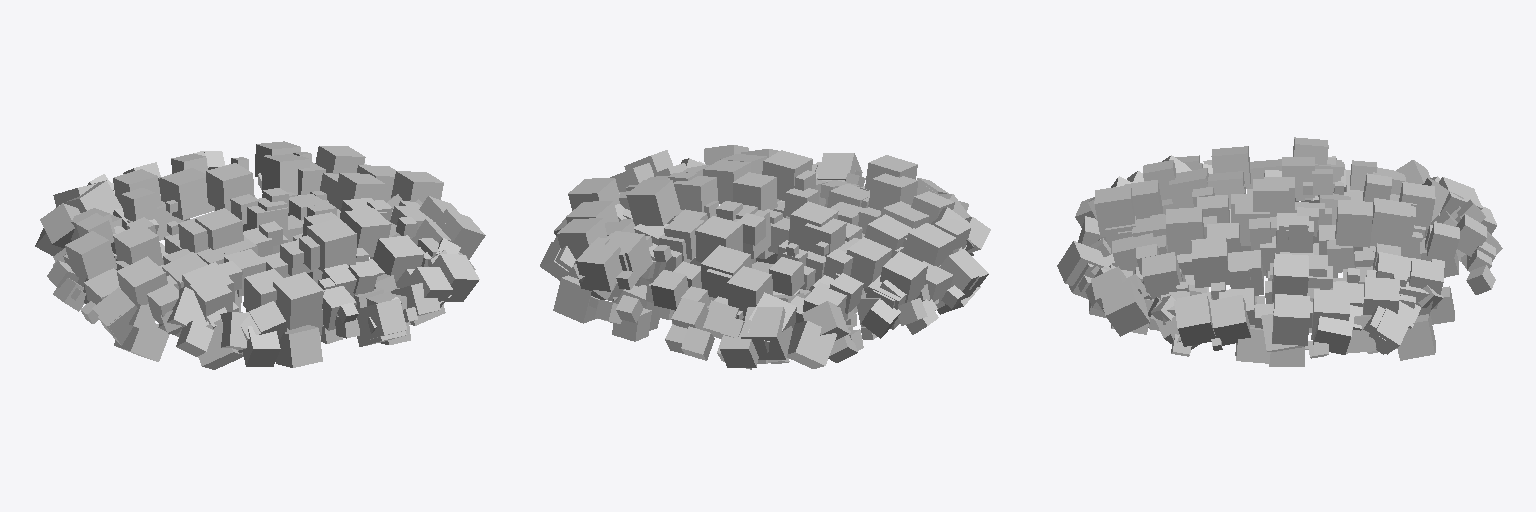
File: redFontanBlack3.obj
3 renders of one model, left to right at view 1: azimuth 30°, elevation 25°; view 2: azimuth 150°, elevation 25°; view 3: azimuth 270°, elevation 25°, orthographic.
Visible parts, largest first — view 1: Cube.342_Cube.005; view 2: Cube.342_Cube.005; view 3: Cube.342_Cube.005.
Part boxes in pixels (x1,y1,x2,y2): Cube.342_Cube.005: (35,141,485,369); Cube.342_Cube.005: (540,145,990,369); Cube.342_Cube.005: (1057,137,1502,366).
Size of the model in its own units: 48.34 by 13.93 by 50.36.